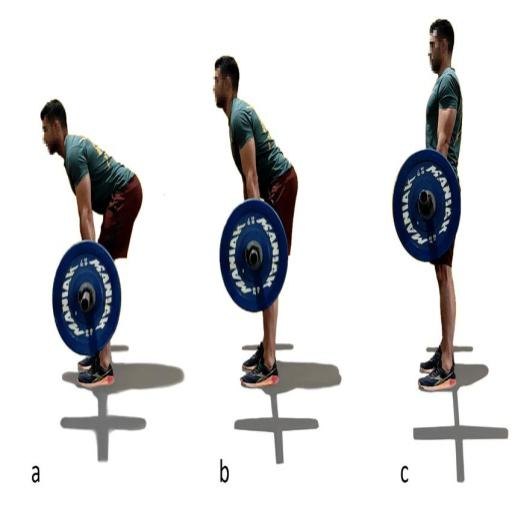exercise: (38, 97, 144, 390), (210, 53, 300, 391), (416, 17, 464, 394)
